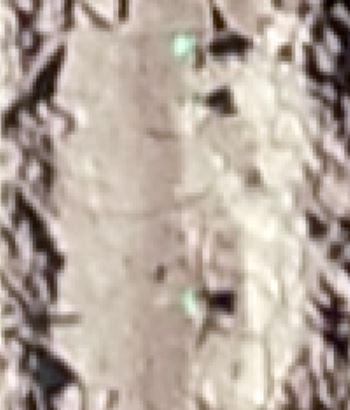cotton: (175, 34, 196, 55), (185, 284, 199, 313)
